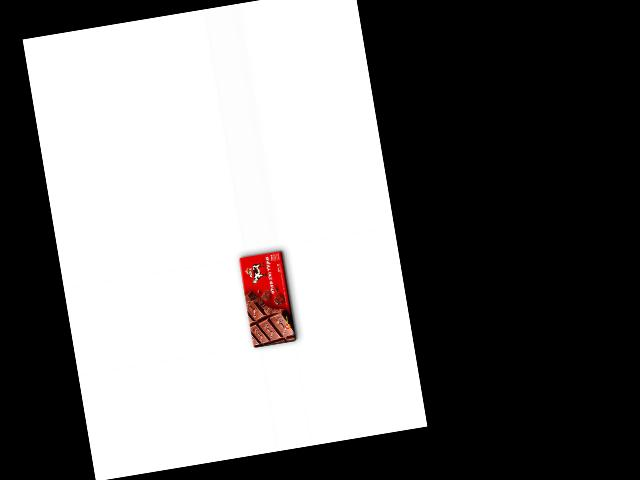chocolate: (236, 247, 300, 350)
